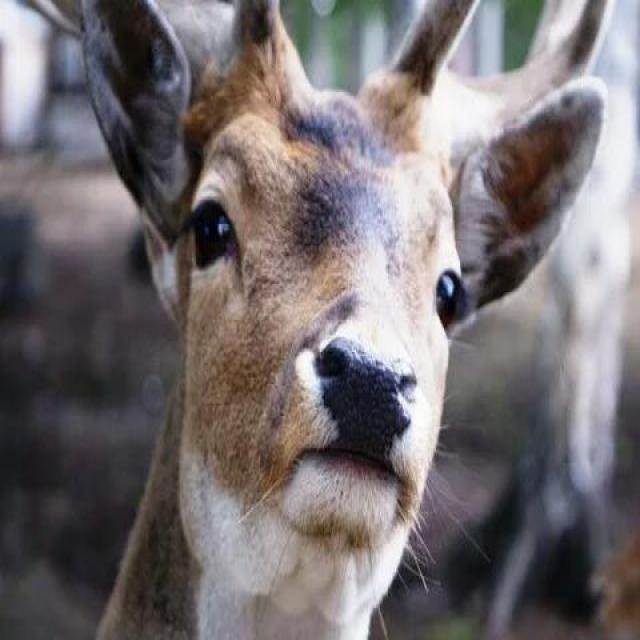deer: (138, 6, 530, 631)
